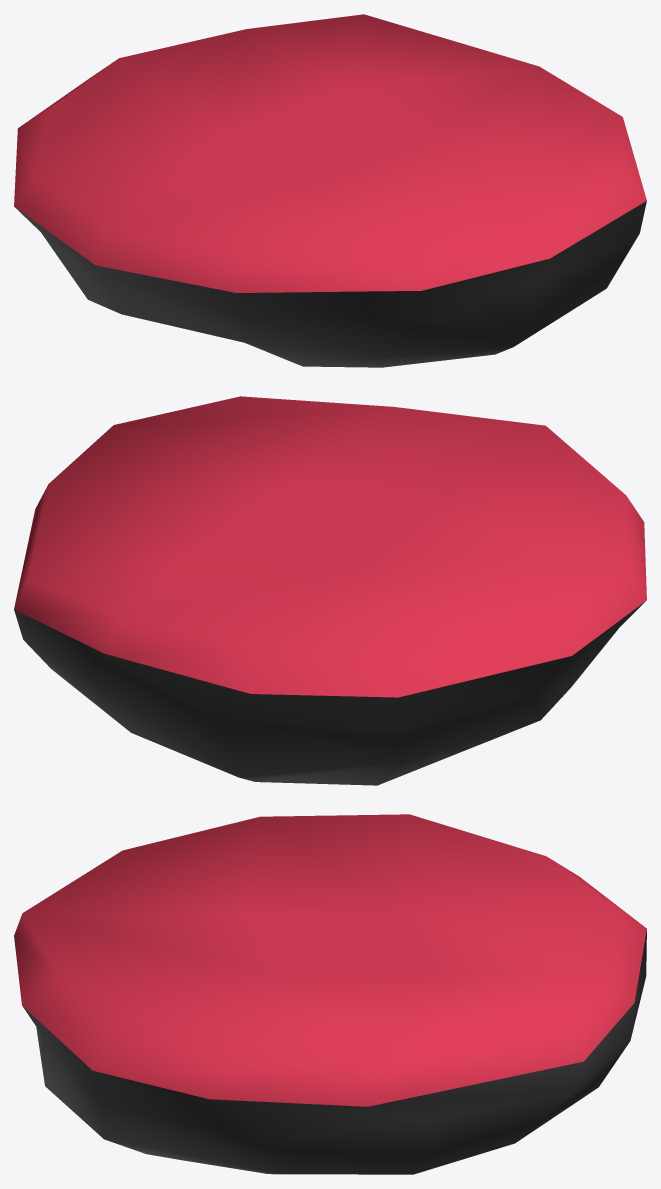
Rendered from FBX_EVT_Island_02.FBX.
The picture shows the model from 3 angles, top to bottom: view 1: azimuth 30°, elevation 25°; view 2: azimuth 150°, elevation 25°; view 3: azimuth 270°, elevation 25°; orthographic projection. The views are drawn at different scales.
Visible parts, largest first — view 1: Island; view 2: Island; view 3: Island.
Boxes of the visible parts, <box> form: Island: <box>14,14,646,367</box>; Island: <box>14,396,646,785</box>; Island: <box>14,814,646,1174</box>.
Size of the model in its own units: 1332 by 399 by 1336.
